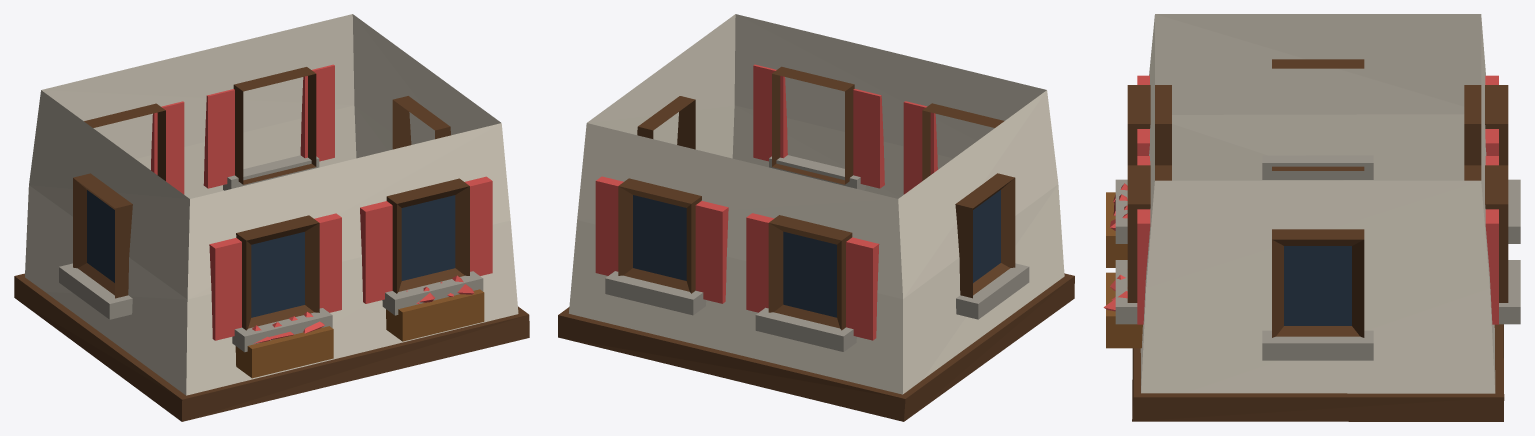
The model's file is house_upper_b.glb.
The picture shows the model from 3 angles, left to right: view 1: azimuth 30°, elevation 25°; view 2: azimuth 150°, elevation 25°; view 3: azimuth 270°, elevation 25°; orthographic projection. The views are drawn at different scales.
Visible parts, largest first — view 1: house_upper_b; view 2: house_upper_b; view 3: house_upper_b.
Boxes of the visible parts, x1,y1,x2,y2 form: house_upper_b: (14, 14, 529, 421); house_upper_b: (558, 14, 1074, 421); house_upper_b: (1103, 14, 1520, 421).
Bounding box in the file's own units: 0.696 × 0.376 × 0.6139.
